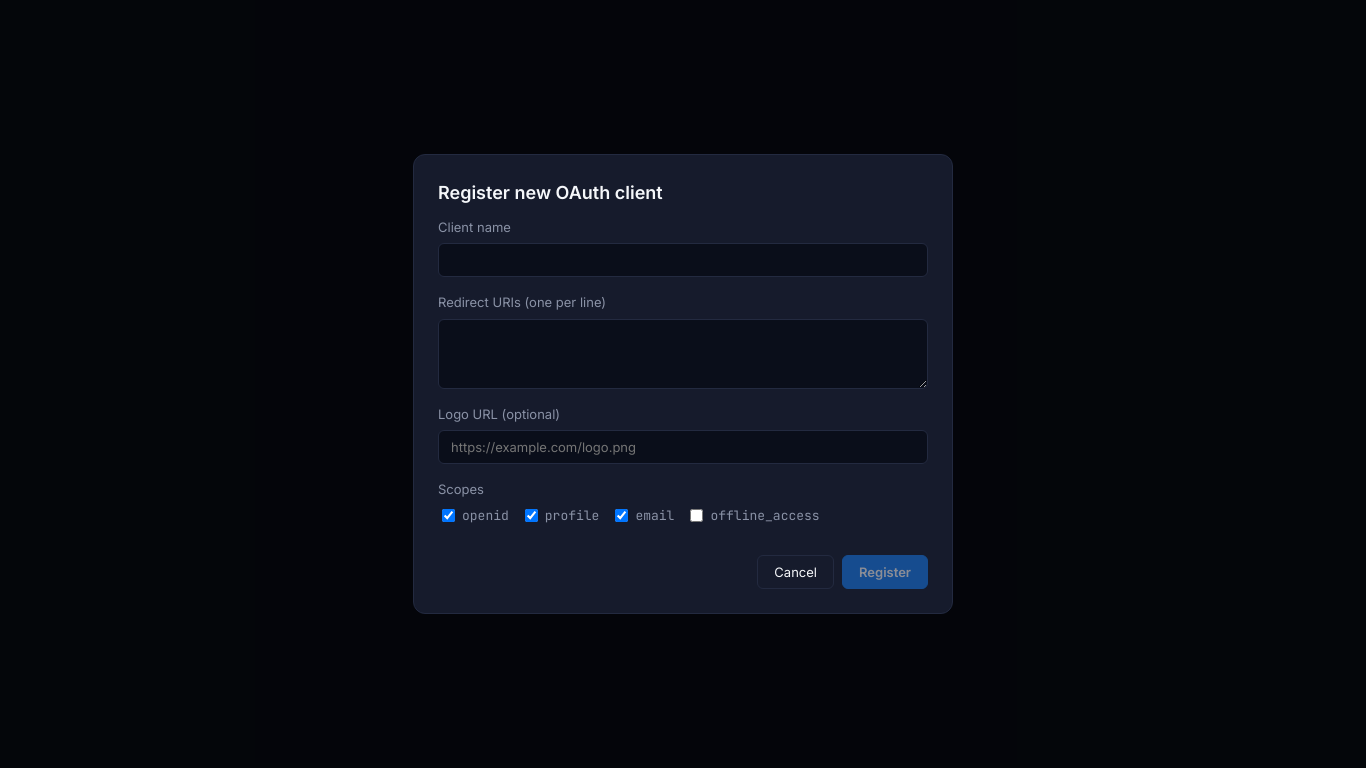
CreateClientModal › shows error when API fails
In the field labelled "Client name": (683, 260) [438,243,928,277], type "x"
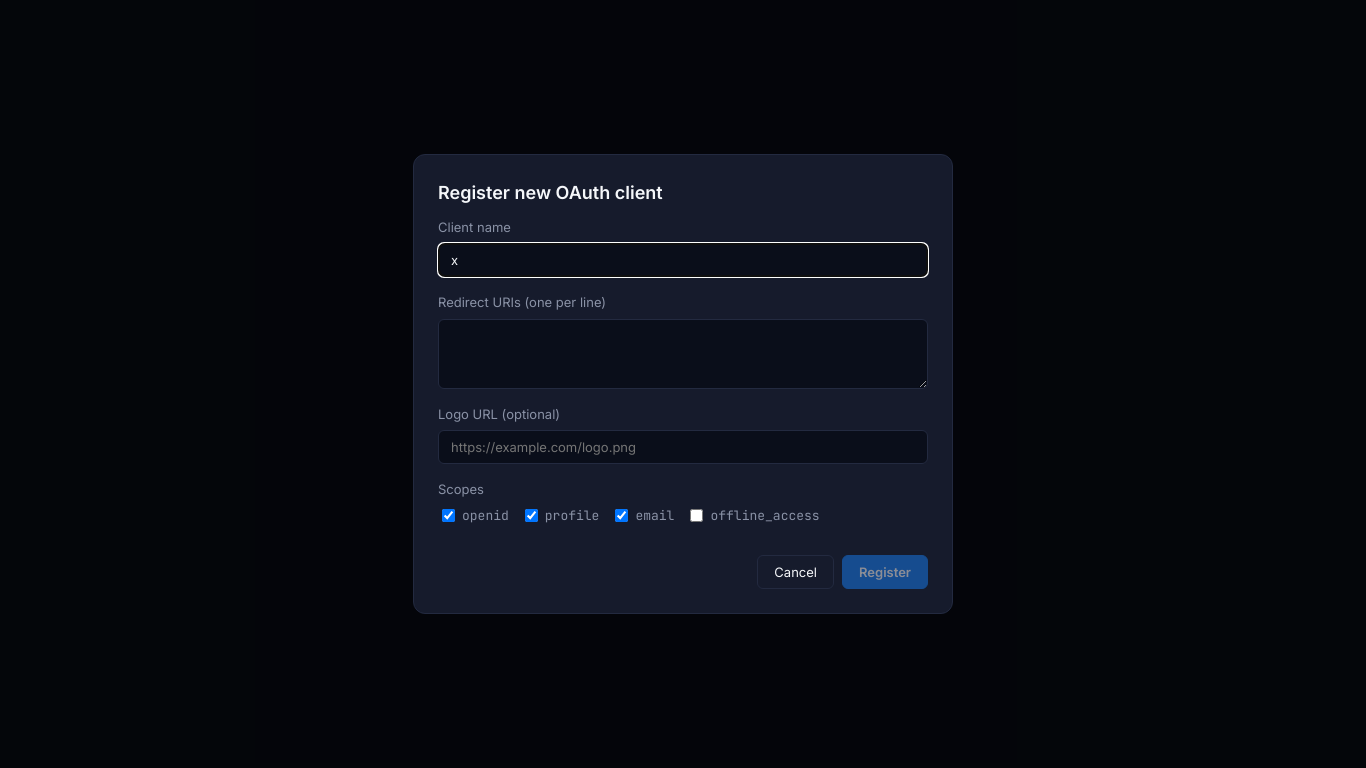
In the text box labelled "Redirect URIs (one per line)": (683, 354) [438,319,928,389], type "app://cb"
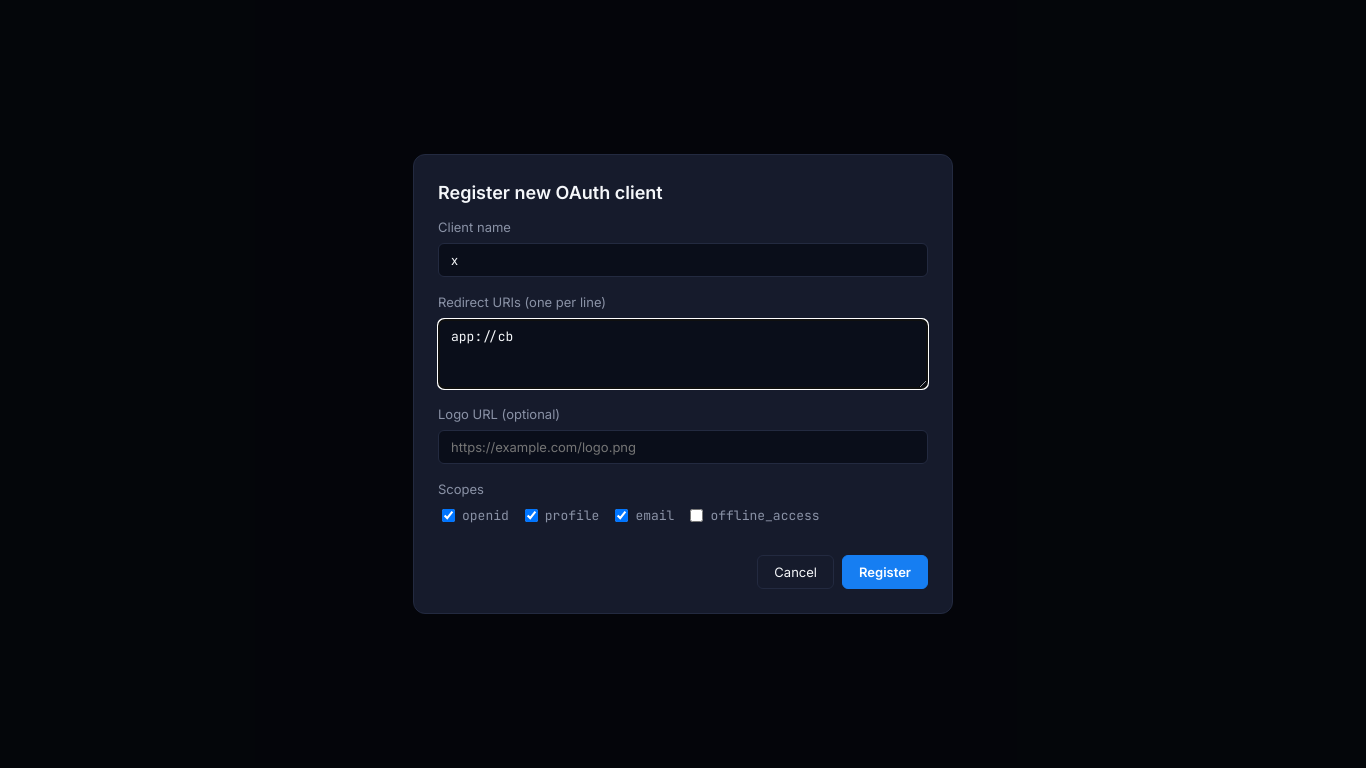
Click the button "Register": (885, 572) [842,555,928,589]
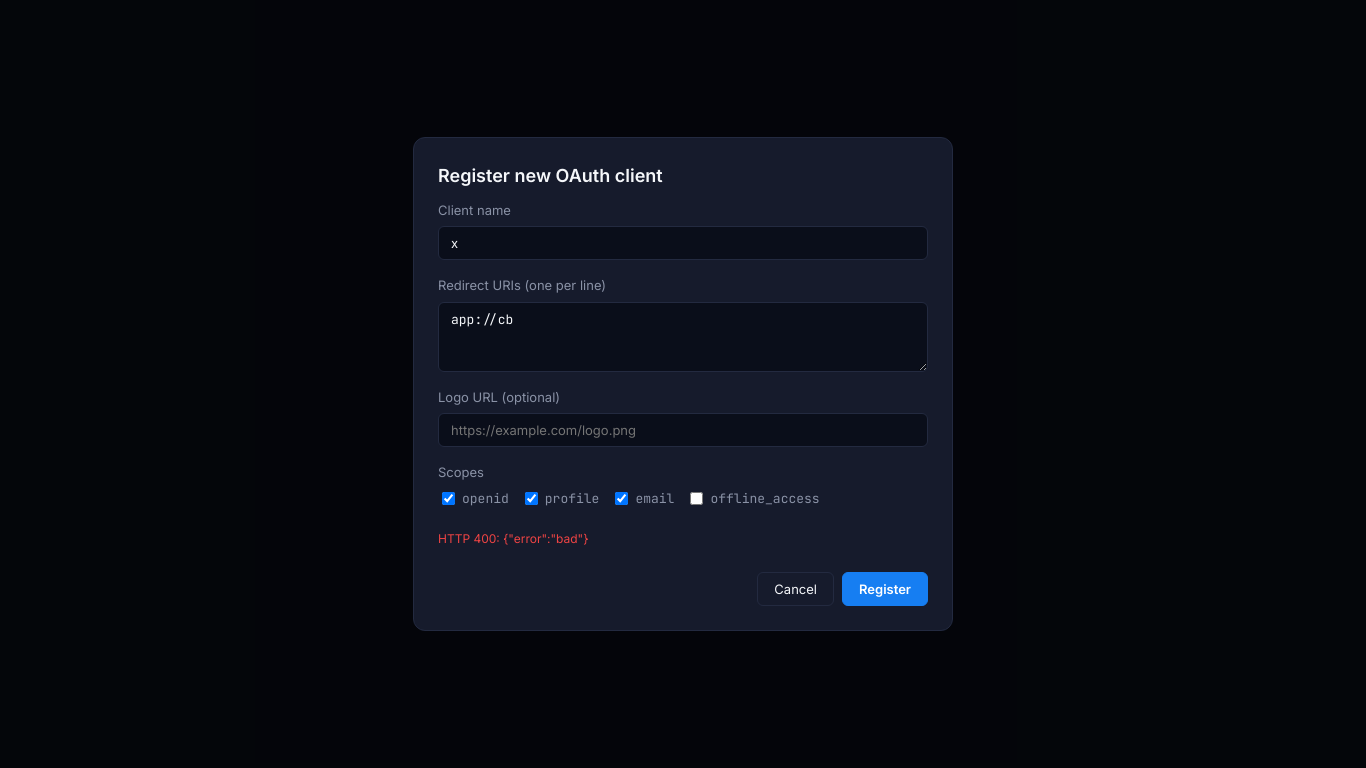
Now the text "HTTP 400: {\"error\":\"bad\"}" is shown, box [438,531,588,546]
